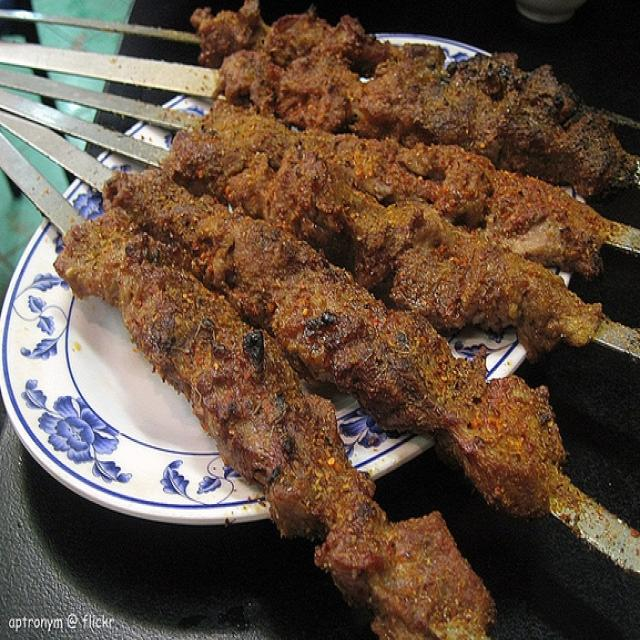烧串烤肉: (21, 15, 616, 597)
